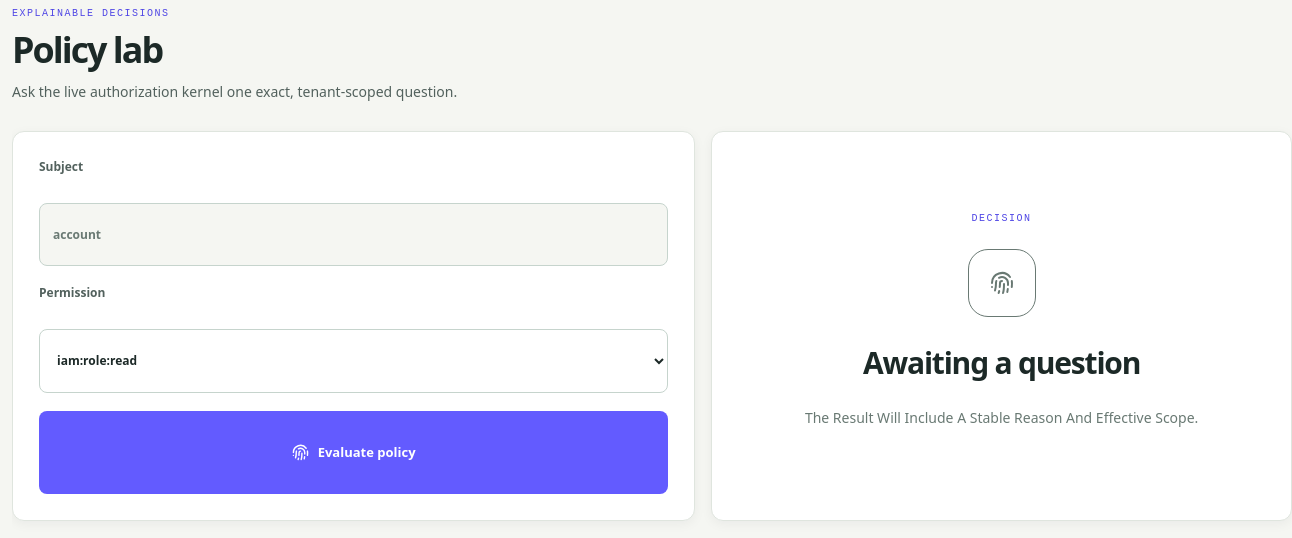
Scenario: accepts a catalog loaded after mount and clears decisions when the selected permission disappears
Later steps or results of the test are not shown.
Click the button "Evaluate policy".
click(354, 452)  # box [39,411,668,494]
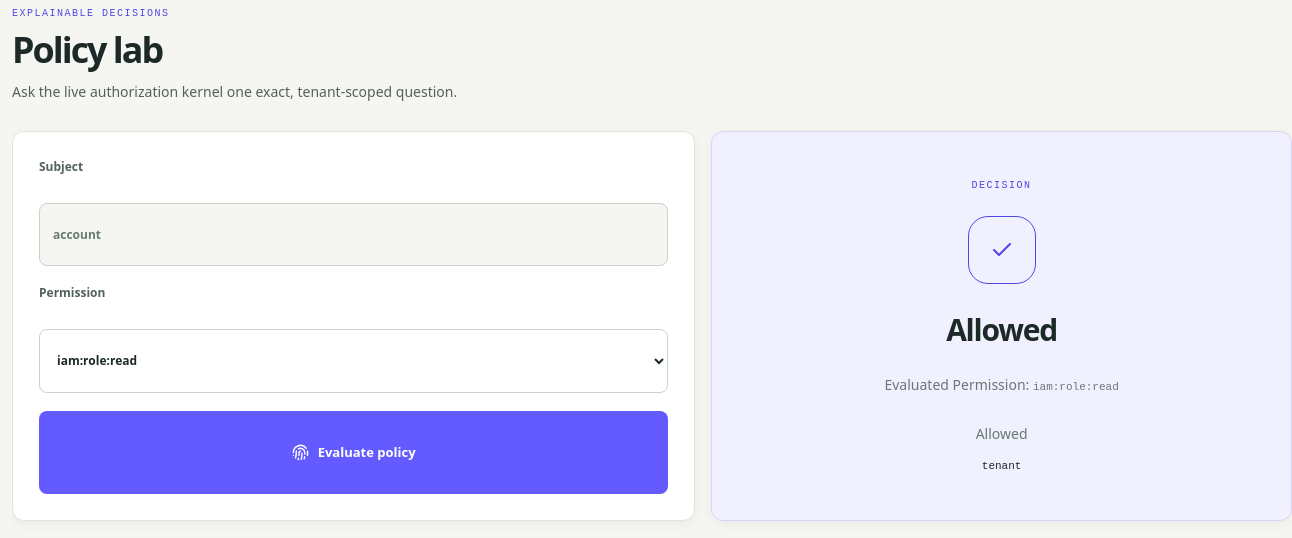
expect the heading "Allowed" is shown: met, box [946,307,1057,352]
